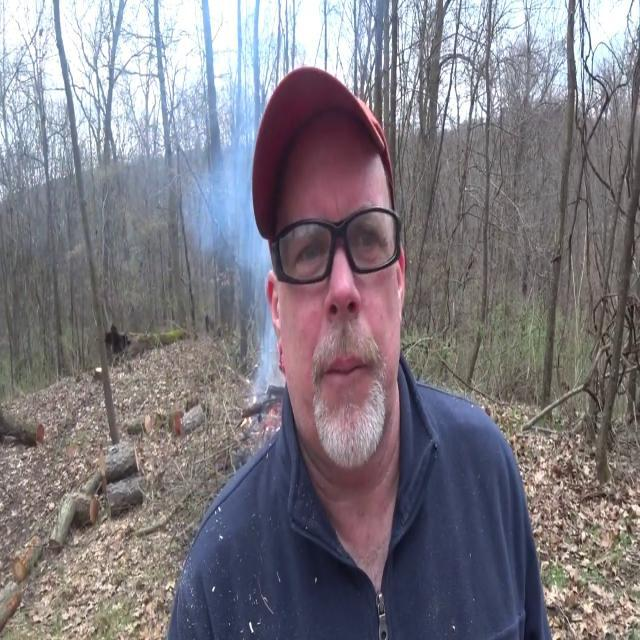Smoke: (185, 94, 284, 390)
